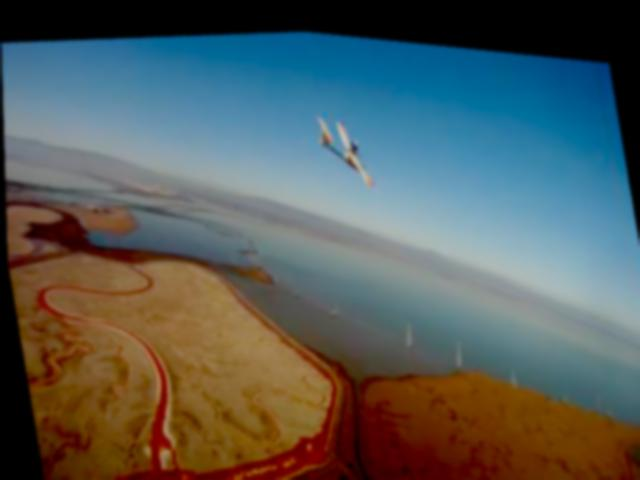uav: (308, 100, 378, 192)
